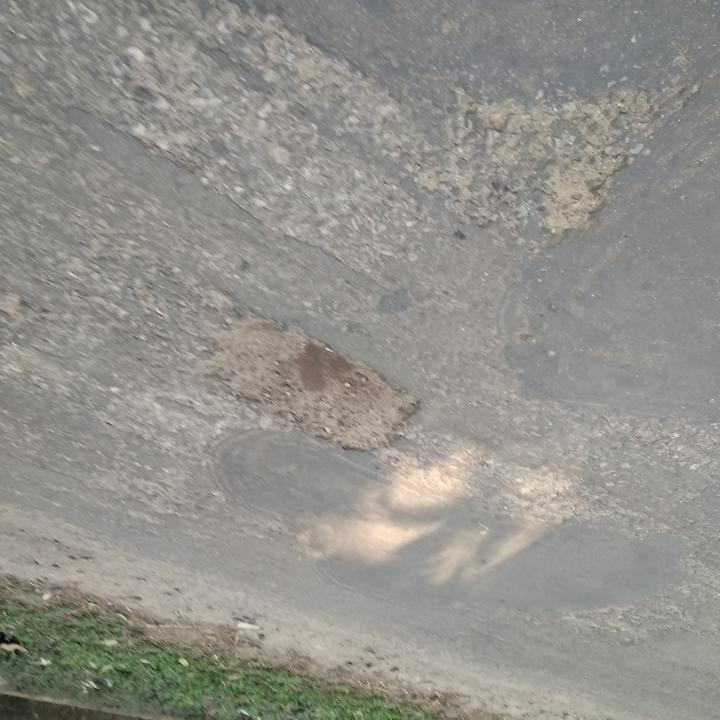pothole: (190, 308, 426, 455), (539, 147, 631, 243)
